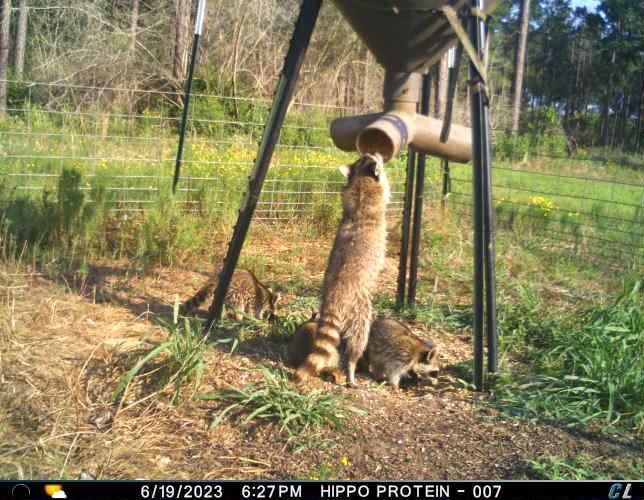Raccoon: (294, 149, 392, 398), (182, 263, 284, 331), (363, 310, 445, 394), (286, 315, 324, 369)
